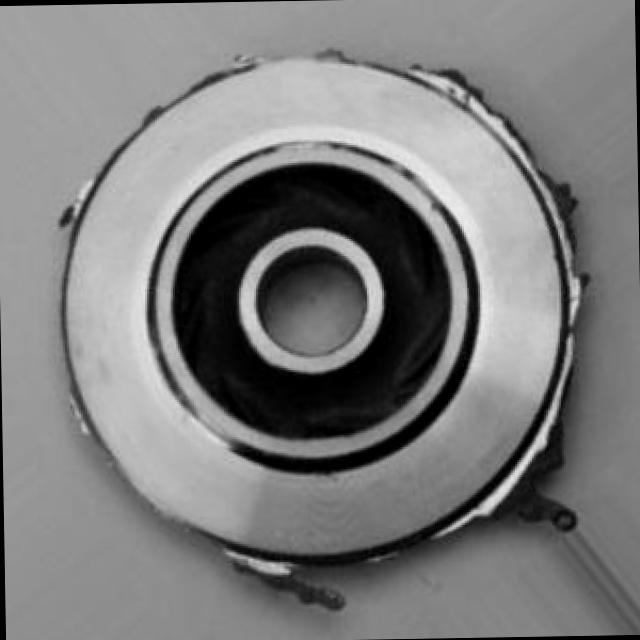Defect: (508, 436, 564, 501)
